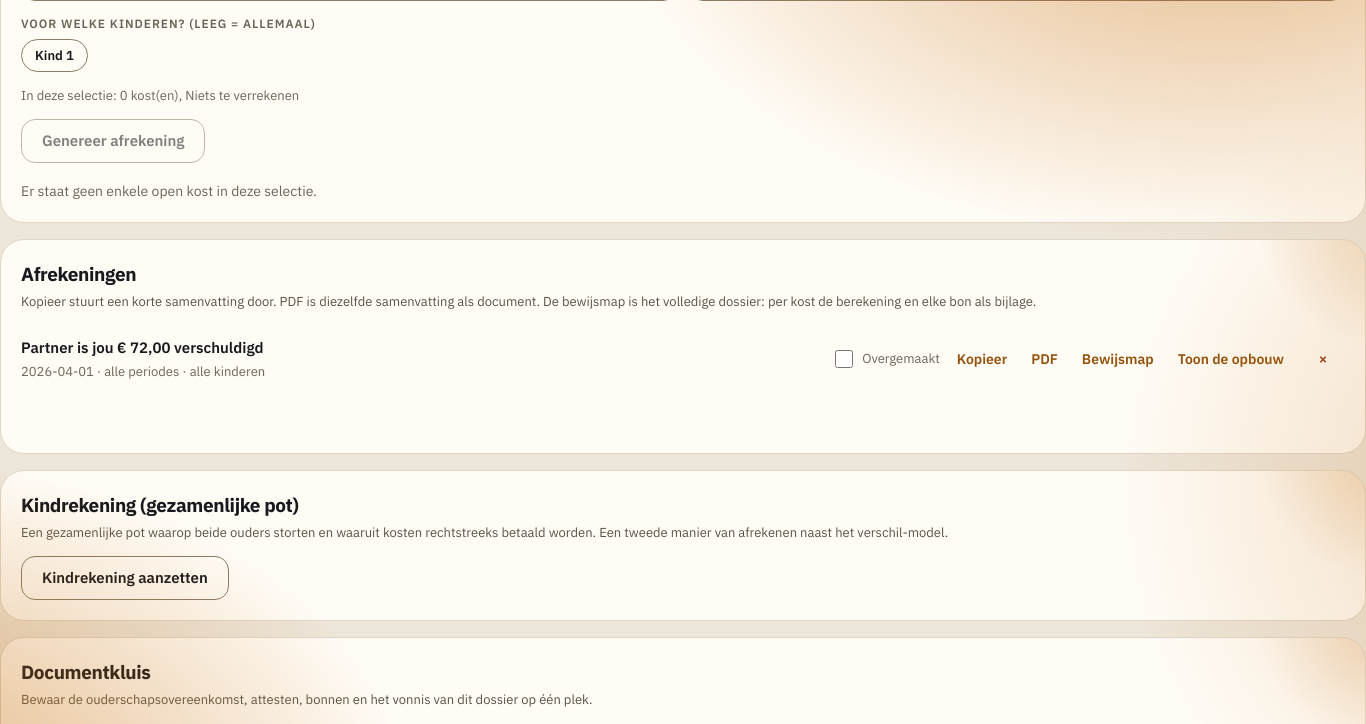
Scenario: DossierSectie — de bewijsmap › meldt een mislukking in plaats van niets te doen
(page scrolled)
Click the button with aria-label "Bewijsmap met bonnen".
click(1118, 359)  # box top-left (1075, 342), bottom-right (1161, 376)
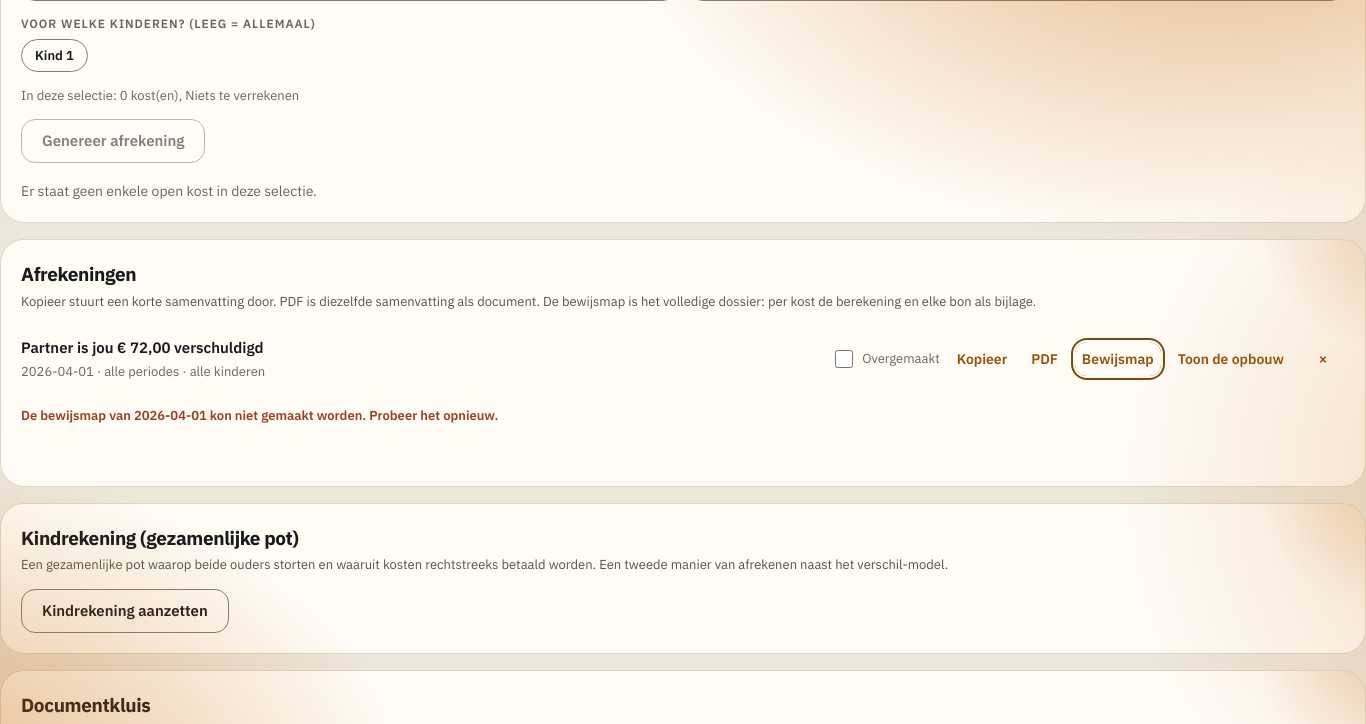
Expected: the message "De bewijsmap van 2026-04-01 kon niet gemaakt worden. Probeer het opnieuw." is shown, top-left (21, 407), bottom-right (498, 424)
